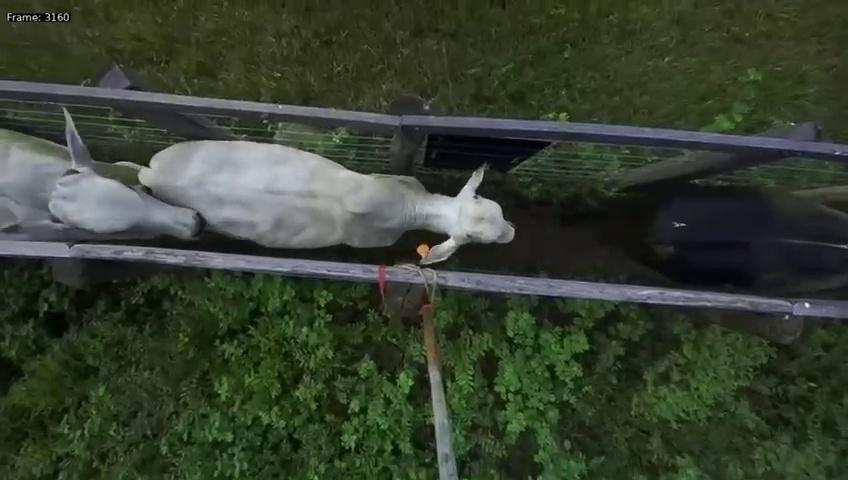cattle: (131, 131, 515, 265), (0, 101, 219, 248)
